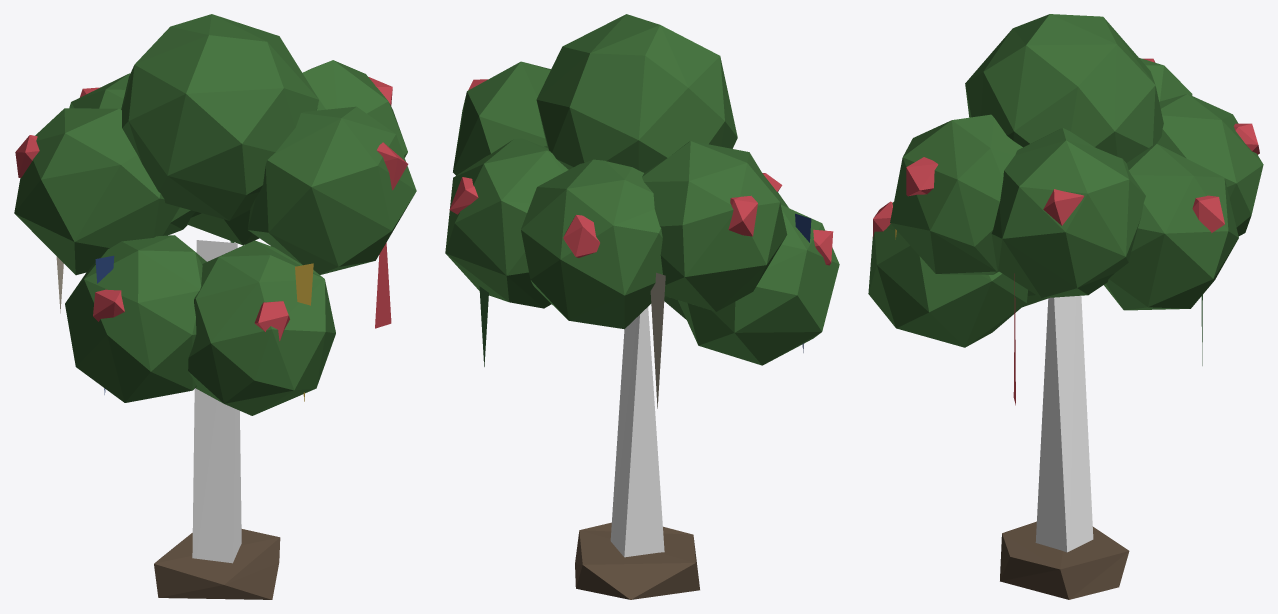
Rendered from gul.glb.
3 renders of one model, left to right at view 1: azimuth 30°, elevation 25°; view 2: azimuth 150°, elevation 25°; view 3: azimuth 270°, elevation 25°, orthographic.
Visible parts, largest first — view 1: Cone; view 2: Cone; view 3: Cone.
Boxes of the visible parts, box(x1,y1,x2,y2) form: Cone: box(14, 14, 416, 599); Cone: box(445, 14, 839, 599); Cone: box(868, 14, 1263, 599).
Bounding box in the file's own units: 0.2324 × 0.3599 × 0.2347.
